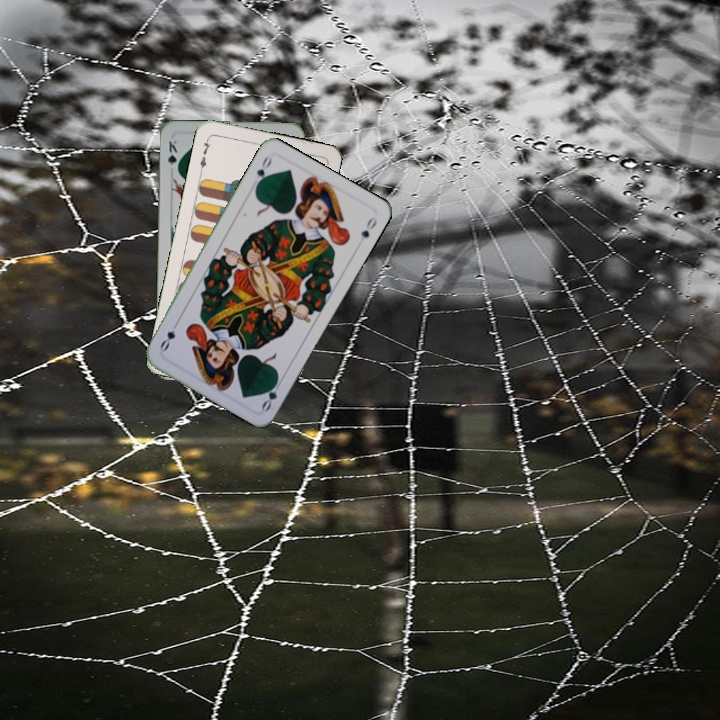E7: (196, 134, 214, 174)
GK: (164, 136, 180, 175)
GO: (257, 374, 285, 414), (252, 152, 275, 190)
